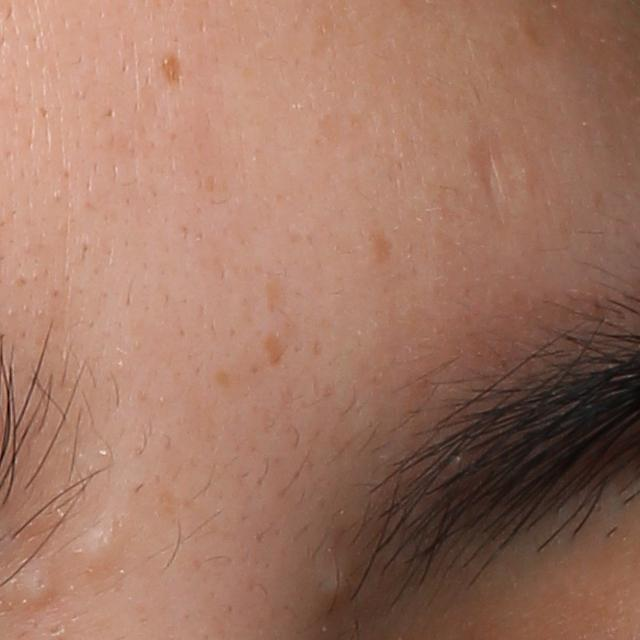atrophic_scar: (470, 133, 513, 230)
comedo: (73, 527, 118, 570), (20, 559, 56, 604)
melasma: (162, 49, 184, 83)
